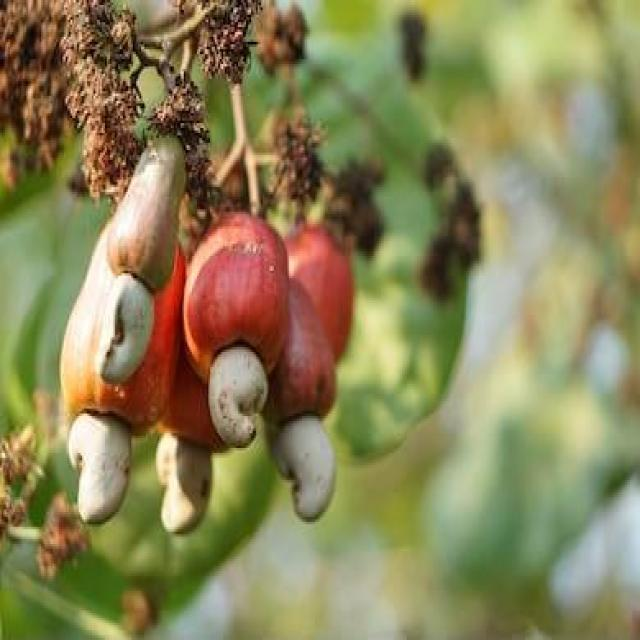Cashew: (148, 437, 224, 537), (62, 416, 134, 519), (277, 416, 342, 522), (212, 341, 268, 447), (99, 277, 148, 387)
